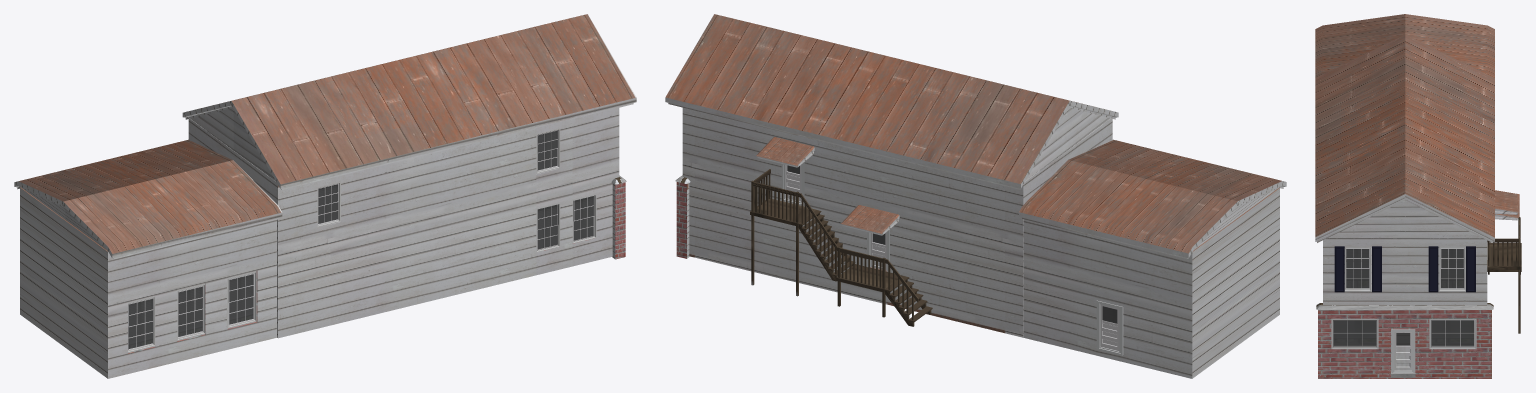
3 views of the same model, side by side, from view 1: azimuth 30°, elevation 25°; view 2: azimuth 150°, elevation 25°; view 3: azimuth 270°, elevation 25° (orthographic). The views are drawn at different scales.
Visible parts, largest first — view 1: pCube85; view 2: pCube85; view 3: pCube85.
Part boxes in pixels (x1=…): pCube85: x1=14, y1=14, x2=636, y2=378; pCube85: x1=665, y1=14, x2=1286, y2=378; pCube85: x1=1315, y1=14, x2=1521, y2=378.
Size of the model in its own units: 59.91 by 22.49 by 22.27.
3 materials, 1 textured.
